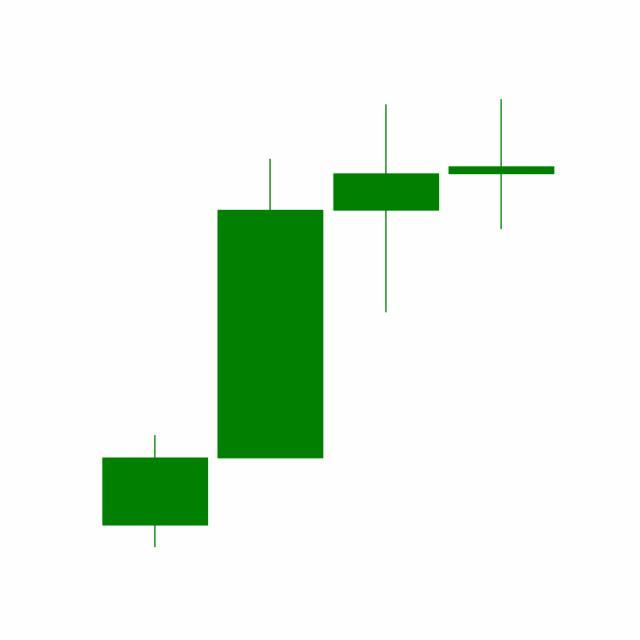Spinning Top: (329, 102, 445, 315)
